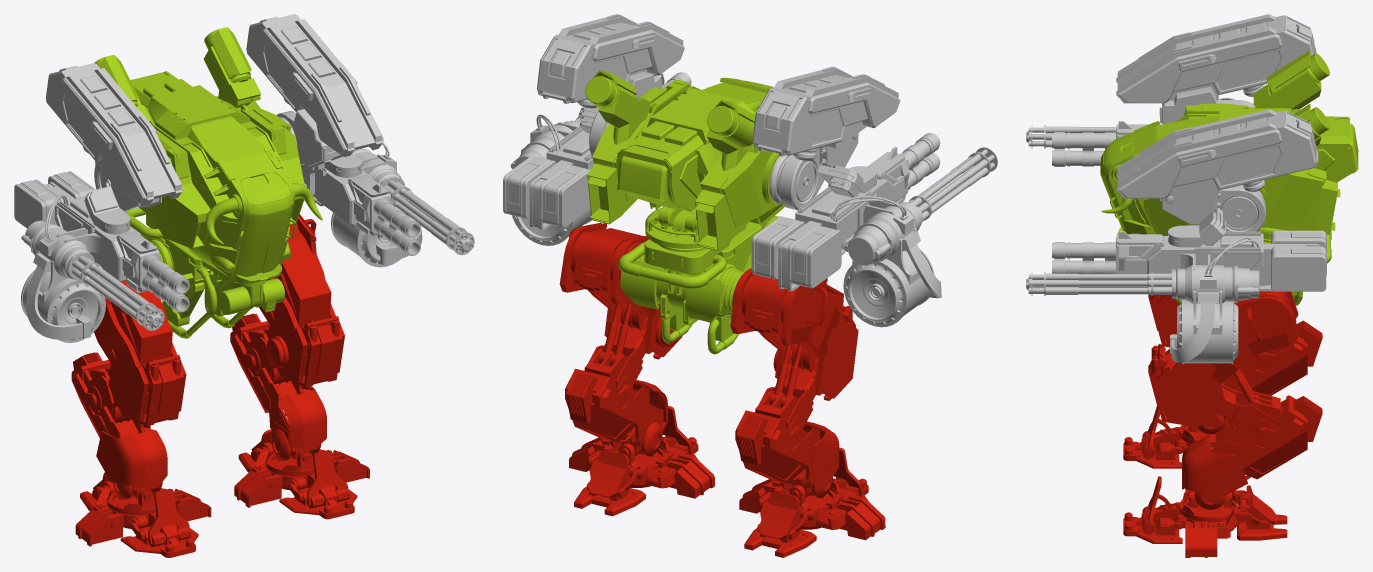
The model's file is Cyborg.fbx.
3 views of the same model, side by side, from view 1: azimuth 30°, elevation 25°; view 2: azimuth 150°, elevation 25°; view 3: azimuth 270°, elevation 25° (orthographic). The views are drawn at different scales.
Visible parts, largest first — view 1: Head_low, Cube.012_low, 1_H_Base_low, Cube.017_low, Plane.004_low, 1_TL_Base_low, Cylinder.012_low, Cube.042_low, Cube.068_low, Cylinder.014_low, 1_LL_Base_low, Cube.009_low (+23 smaller); view 2: Head_low, Cube.012_low, Cube.005_low, Cube.017_low, 1_LL_Base_low, 1_H_Base_low, Cylinder.012_low, 1_TL_Base_low, Cube.068_low, Cube.009_low, 1_H_Base2_low, Cube.072_low (+19 smaller); view 3: Cube.012_low, Head_low, Cube.017_low, 1_LL_Base_low, 1_H_Base_low, Cube.009_low, Cylinder.014_low, Cube.005_low, Plane.004_low, Cylinder.012_low, 1_H_Base2_low, Cube.057_low (+23 smaller).
Boxes of the visible parts, box(x1,y1,x2,y2) form: Head_low: box(94, 27, 322, 338); Cube.012_low: box(46, 14, 383, 205); 1_H_Base_low: box(44, 164, 392, 292); Cube.017_low: box(94, 214, 344, 421); Plane.004_low: box(96, 386, 326, 490); 1_TL_Base_low: box(111, 223, 331, 366); Cylinder.012_low: box(21, 212, 400, 342); Cube.042_low: box(128, 315, 342, 426); Cube.068_low: box(75, 450, 369, 546); Cylinder.014_low: box(142, 198, 420, 312); 1_LL_Base_low: box(71, 313, 302, 447); Cube.009_low: box(94, 109, 342, 211); Head_low: box(585, 70, 784, 354); Cube.012_low: box(537, 14, 900, 156); Cube.005_low: box(503, 155, 841, 288); Cube.017_low: box(559, 222, 858, 398); 1_LL_Base_low: box(565, 369, 812, 484); 1_H_Base_low: box(529, 126, 909, 291); Cylinder.012_low: box(512, 209, 934, 327); 1_TL_Base_low: box(571, 228, 843, 357); Cube.068_low: box(569, 437, 885, 540); Cube.009_low: box(589, 72, 858, 210); 1_H_Base2_low: box(514, 120, 923, 265); Cube.072_low: box(587, 450, 799, 539); Cube.012_low: box(1116, 14, 1318, 198); Head_low: box(1100, 50, 1358, 305); Cube.017_low: box(1156, 291, 1298, 425); 1_LL_Base_low: box(1214, 320, 1321, 479); 1_H_Base_low: box(1116, 128, 1320, 291); Cube.009_low: box(1159, 86, 1266, 231); Cylinder.014_low: box(1052, 132, 1115, 273); Cube.005_low: box(1271, 230, 1326, 291); Plane.004_low: box(1182, 435, 1247, 498); Cylinder.012_low: box(1177, 299, 1238, 364); 1_H_Base2_low: box(1172, 265, 1259, 303); Cube.057_low: box(1123, 441, 1182, 543).
Bounding box in the file's own units: 241 × 256 × 183.
